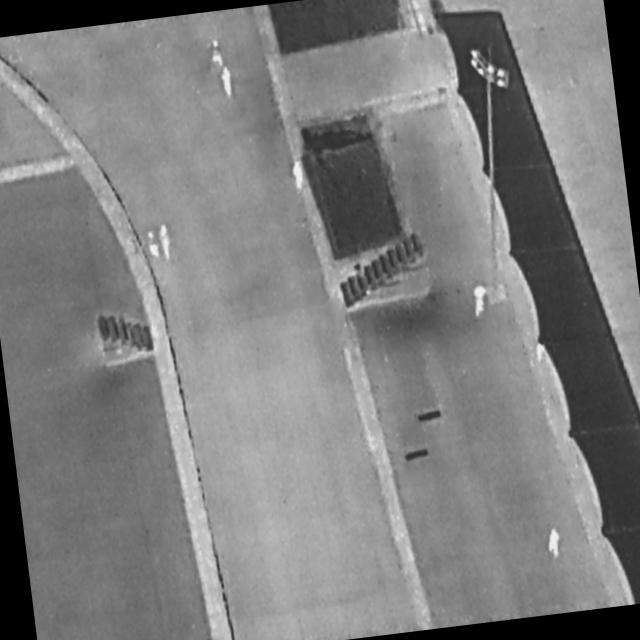person: (155, 218, 179, 266), (470, 281, 492, 320), (143, 225, 165, 262), (218, 65, 237, 101), (546, 523, 565, 559), (289, 157, 307, 193), (208, 38, 226, 66)
